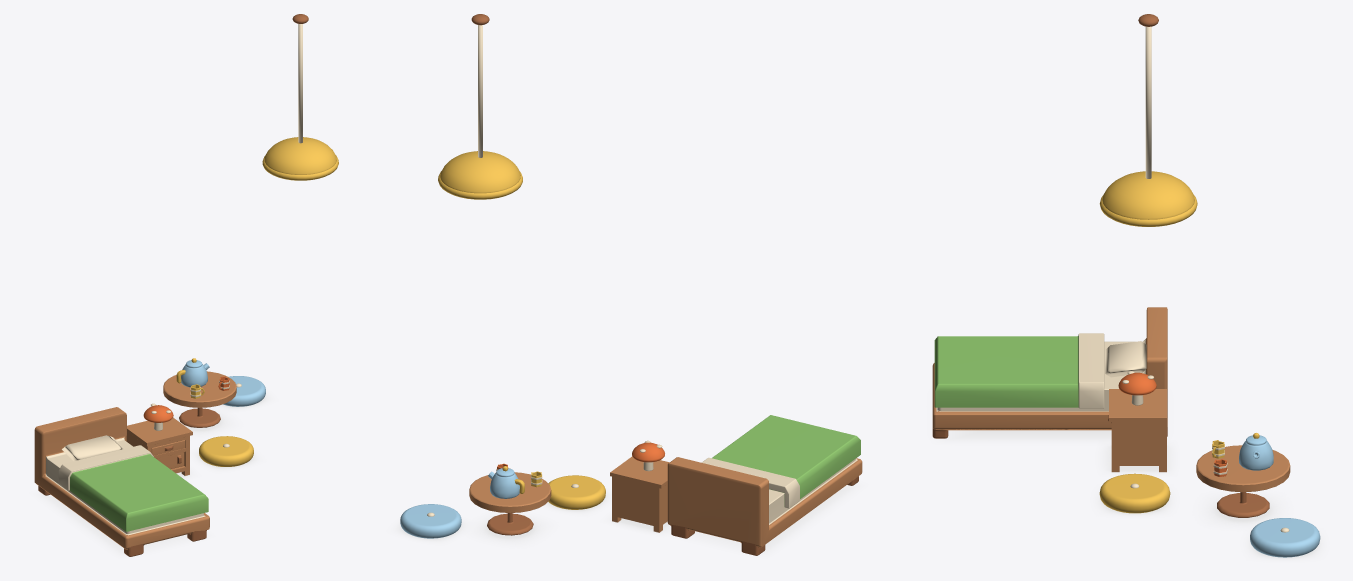
Rendered from room_base_v2_draco_webp.glb.
3 views of the same model, side by side, from view 1: azimuth 30°, elevation 25°; view 2: azimuth 150°, elevation 25°; view 3: azimuth 270°, elevation 25° (orthographic). The views are drawn at different scales.
Parts seen in each view (by area): view 1: bed_blanket, bed_frame, round_table_top, ceiling_lamp_cap, nightstand_body, cushion_yellow_body, shadow_bed, bed_pillow, cushion_sky_body, round_table_teapot_body, ceiling_lamp_cord, shadow_round_table (+2 smaller); view 2: bed_frame, bed_blanket, nightstand_body, round_table_top, ceiling_lamp_cap, cushion_sky_body, cushion_yellow_body, shadow_bed, shadow_round_table, round_table_teapot_body, ceiling_lamp_cord; view 3: bed_blanket, bed_frame, nightstand_body, round_table_top, ceiling_lamp_cap, cushion_yellow_body, cushion_sky_body, shadow_bed, bed_pillow, shadow_round_table, ceiling_lamp_cord, round_table_teapot_body (+4 smaller).
Part boxes in pixels (x1,y1,x2,y2): bed_blanket: [58, 445, 208, 531]; bed_frame: [34, 407, 209, 556]; round_table_top: [163, 371, 236, 427]; ceiling_lamp_cap: [264, 137, 336, 174]; nightstand_body: [126, 417, 192, 475]; cushion_yellow_body: [199, 436, 253, 466]; shadow_bed: [37, 492, 207, 556]; bed_pillow: [62, 435, 124, 461]; cushion_sky_body: [223, 376, 265, 406]; round_table_teapot_body: [176, 358, 209, 387]; ceiling_lamp_cord: [298, 24, 302, 143]; shadow_round_table: [173, 408, 233, 436]; bed_frame: [667, 457, 862, 555]; bed_blanket: [701, 415, 860, 508]; nightstand_body: [610, 456, 669, 532]; round_table_top: [469, 472, 551, 535]; ceiling_lamp_cap: [440, 151, 520, 193]; cushion_sky_body: [400, 504, 461, 538]; cushion_yellow_body: [548, 475, 605, 509]; shadow_bed: [689, 483, 859, 554]; shadow_round_table: [472, 513, 547, 544]; round_table_teapot_body: [488, 466, 524, 498]; ceiling_lamp_cord: [478, 25, 482, 157]; bed_blanket: [934, 333, 1104, 408]; bed_frame: [932, 307, 1167, 438]; nightstand_body: [1109, 389, 1166, 472]; round_table_top: [1196, 445, 1290, 517]; ceiling_lamp_cap: [1102, 171, 1194, 219]; cushion_yellow_body: [1099, 473, 1170, 513]; cushion_sky_body: [1250, 518, 1320, 557]; shadow_bed: [938, 430, 1111, 441]; bed_pillow: [1105, 341, 1146, 377]; shadow_round_table: [1202, 493, 1284, 527]; ceiling_lamp_cord: [1145, 26, 1151, 178]; round_table_teapot_body: [1239, 433, 1273, 470].
Bounding box in the file's own units: 3.45 × 4.52 × 3.25.
8 materials, 1 textured.
